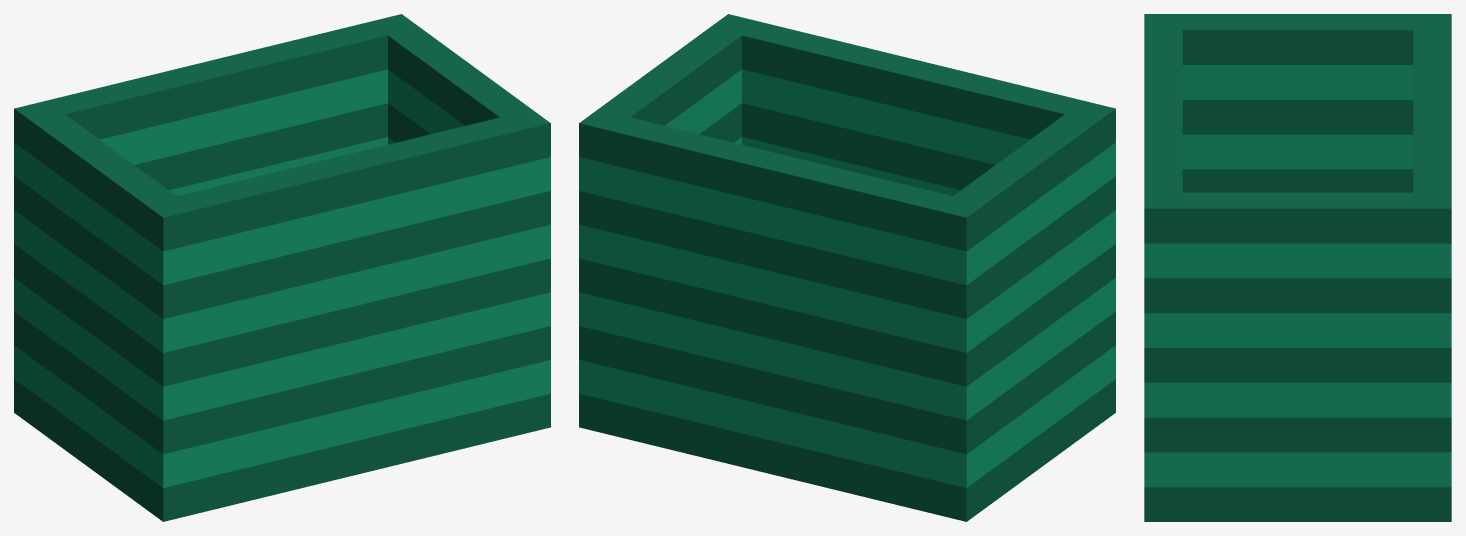
File: Lamp2.obj
3 renders of one model, left to right at view 1: azimuth 30°, elevation 25°; view 2: azimuth 150°, elevation 25°; view 3: azimuth 270°, elevation 25°, orthographic. The views are drawn at different scales.
Visible parts, largest first — view 1: Lamp2; view 2: Lamp2; view 3: Lamp2.
Part boxes in pixels (bbox=[...]): Lamp2: bbox=[14, 14, 550, 521]; Lamp2: bbox=[579, 14, 1115, 521]; Lamp2: bbox=[1144, 14, 1451, 521].
Bounding box in the file's own units: 12 × 9 × 8.
Materials: 1 (1 with a texture image).
